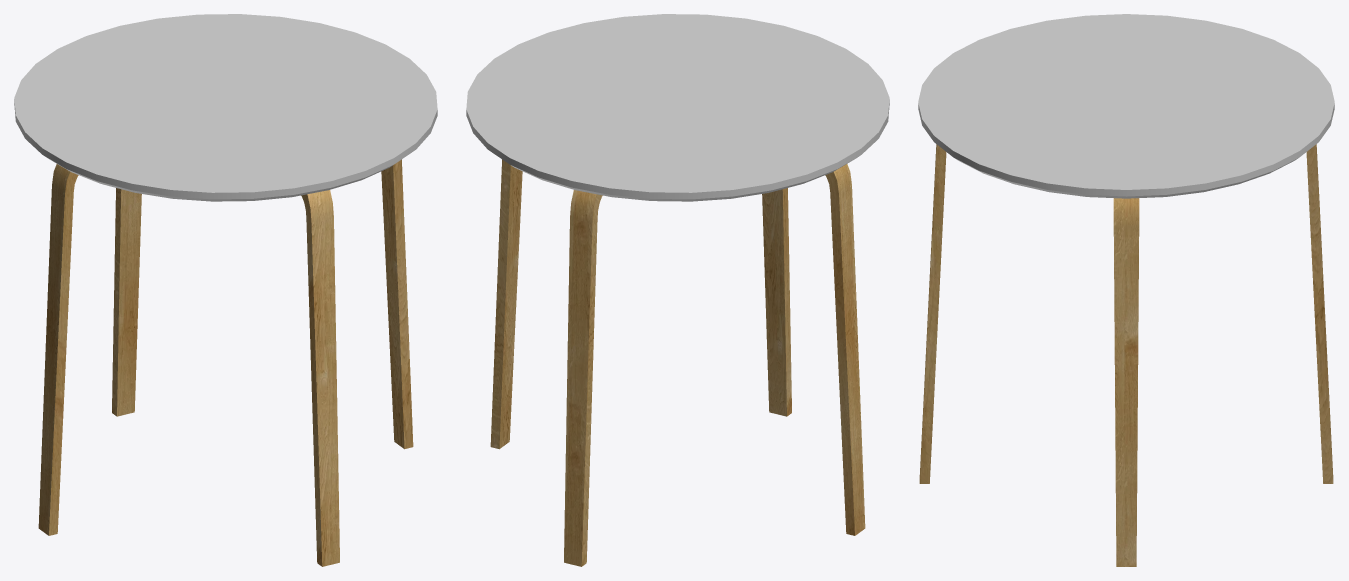
The model's file is sh-scopia-round-table.glb.
3 views of the same model, side by side, from view 1: azimuth 30°, elevation 25°; view 2: azimuth 150°, elevation 25°; view 3: azimuth 270°, elevation 25° (orthographic).
Visible parts, largest first — view 1: table_Cylinder, legs_Cube.001; view 2: table_Cylinder, legs_Cube.001; view 3: table_Cylinder, legs_Cube.001.
Boxes of the visible parts, x1,y1,x2,y2 form: table_Cylinder: (14, 14, 437, 201); legs_Cube.001: (38, 159, 413, 566); table_Cylinder: (466, 14, 889, 201); legs_Cube.001: (490, 159, 865, 566); table_Cylinder: (918, 14, 1334, 198); legs_Cube.001: (919, 144, 1333, 566).
Size of the model in its own units: 1 by 1 by 1.
2 materials, 1 textured.
